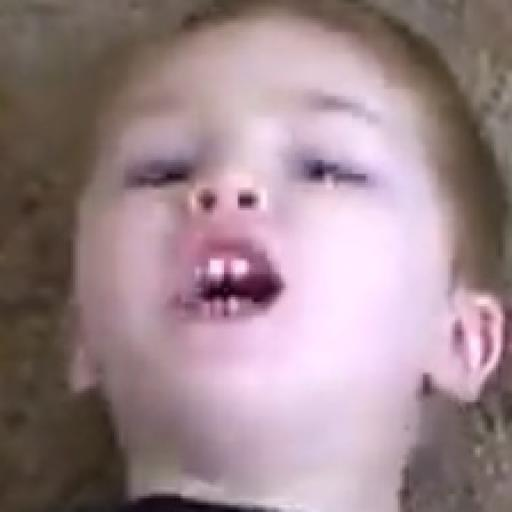Autism: (56, 22, 512, 506)
